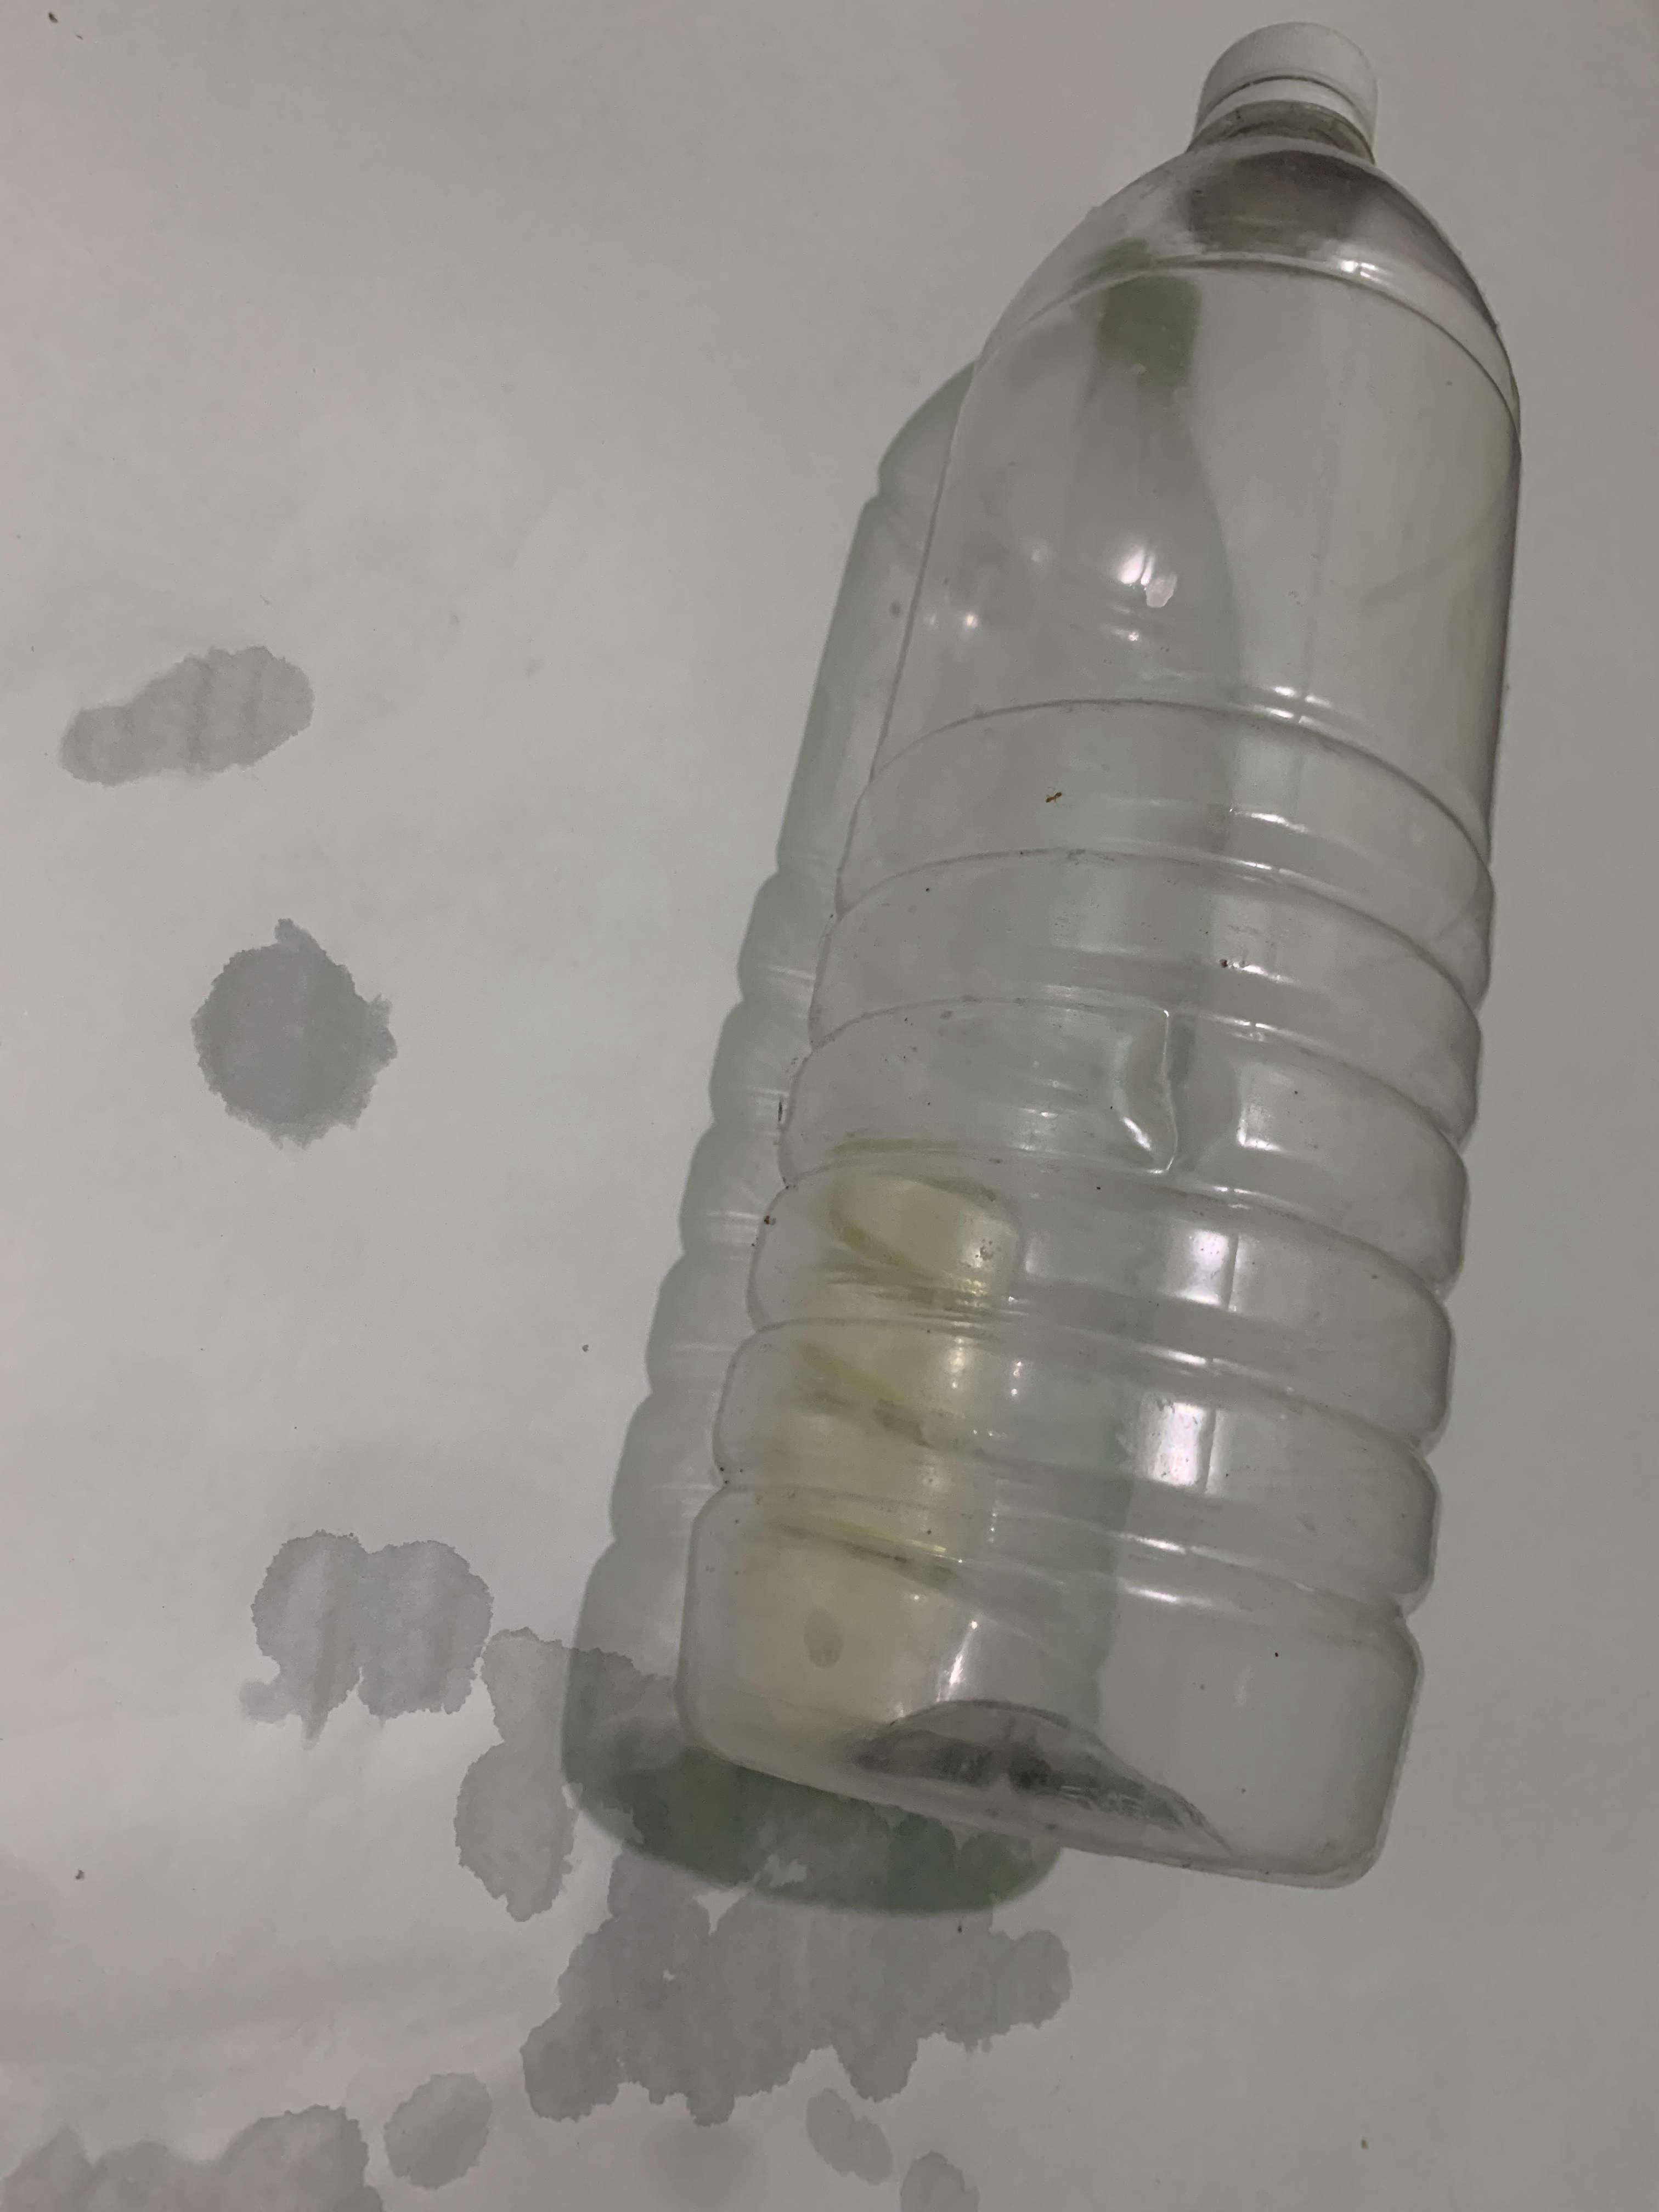bottle: (1084, 66, 1115, 1838)
